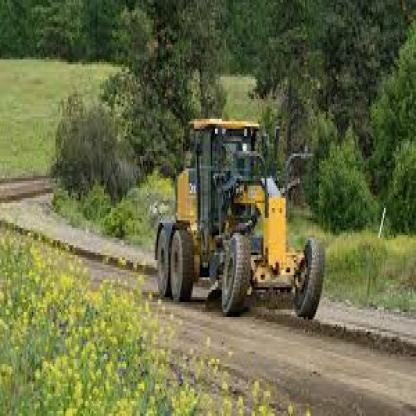bull_dozer/loader/grader: (146, 99, 348, 344)
